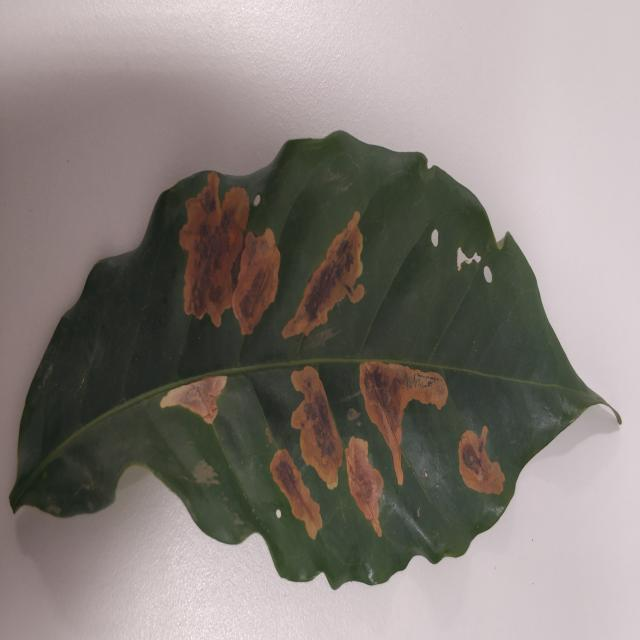Plaga-Minador: (9, 131, 620, 592)
